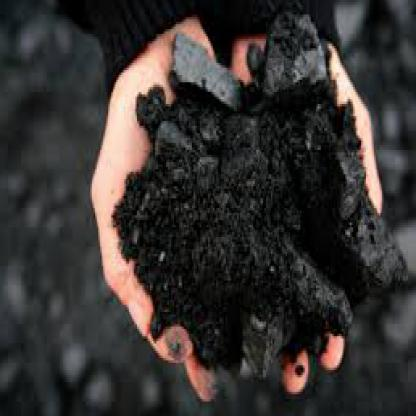Sedimentary_coal: (345, 208, 414, 317), (166, 29, 240, 123), (255, 14, 334, 102)
